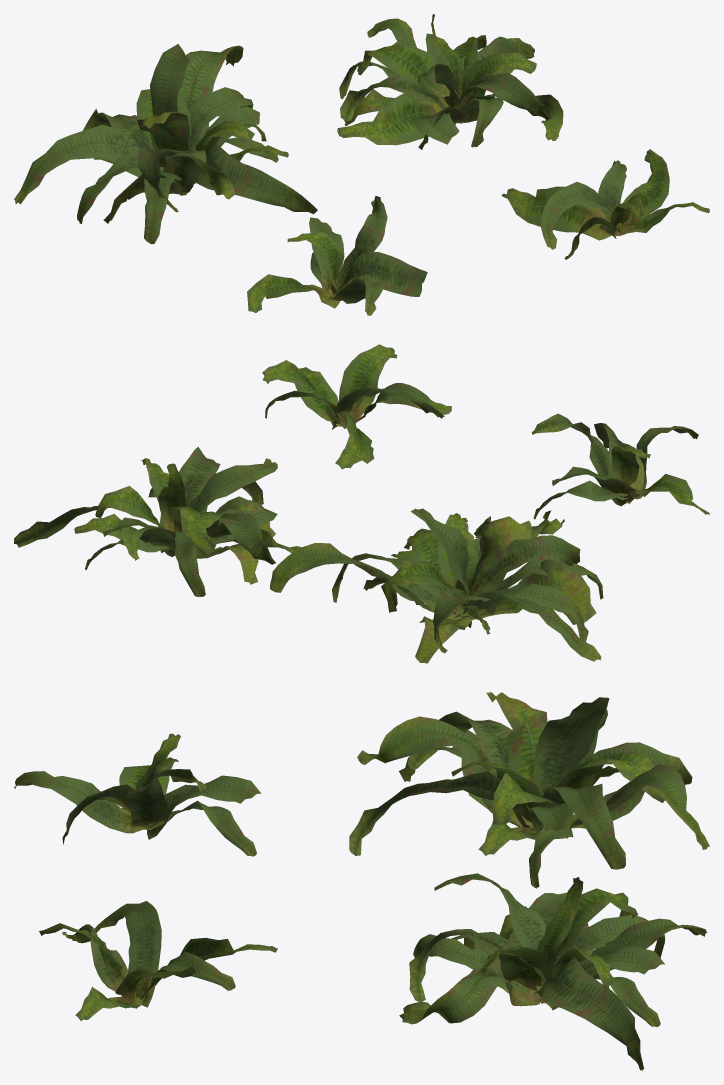
File: fern_02.glb
The picture shows the model from 3 angles, top to bottom: view 1: azimuth 30°, elevation 25°; view 2: azimuth 150°, elevation 25°; view 3: azimuth 270°, elevation 25°; orthographic projection. The views are drawn at different scales.
Visible parts, largest first — view 1: fern_02_b, fern_02_c, fern_02_d, fern_02_a; view 2: fern_02_b, fern_02_c, fern_02_d, fern_02_a; view 3: fern_02_b, fern_02_c, fern_02_a, fern_02_d.
Boxes of the visible parts, x1,y1,x2,y2 form: fern_02_b: (14,44,317,244); fern_02_c: (337,14,563,149); fern_02_d: (501,149,709,259); fern_02_a: (247,196,427,315); fern_02_b: (269,508,603,663); fern_02_c: (14,447,300,596); fern_02_d: (262,344,451,469); fern_02_a: (531,413,709,519); fern_02_b: (349,692,709,888); fern_02_c: (399,873,707,1070); fern_02_a: (14,733,261,856); fern_02_d: (39,901,277,1020).
Size of the model in its own units: 1.97 by 0.4277 by 1.72.
Materials: 1 (1 with a texture image).
